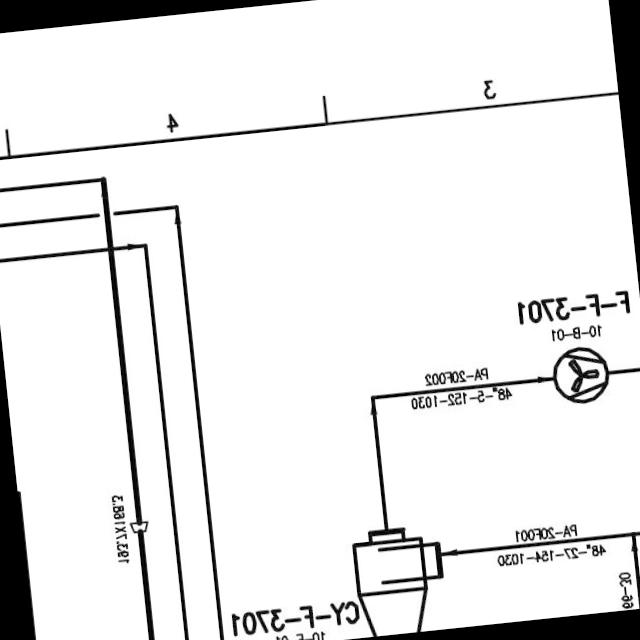CY: (343, 520, 452, 636)
F: (545, 334, 616, 408)
SP: (124, 513, 156, 539)
